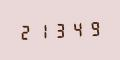four: (69, 19, 85, 38)
nine: (86, 18, 102, 37)
one: (35, 21, 51, 40)
three: (52, 20, 68, 39)
two: (18, 22, 34, 41)
